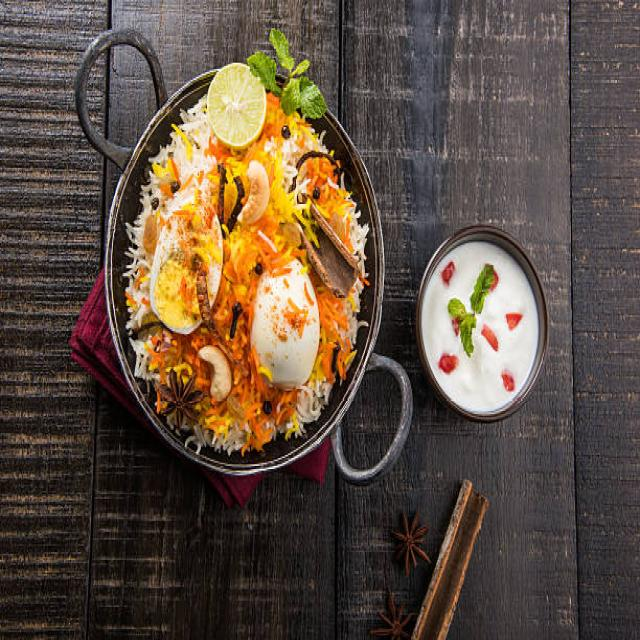BIRIYANI: (131, 54, 363, 447)
CURD: (427, 251, 534, 411)
